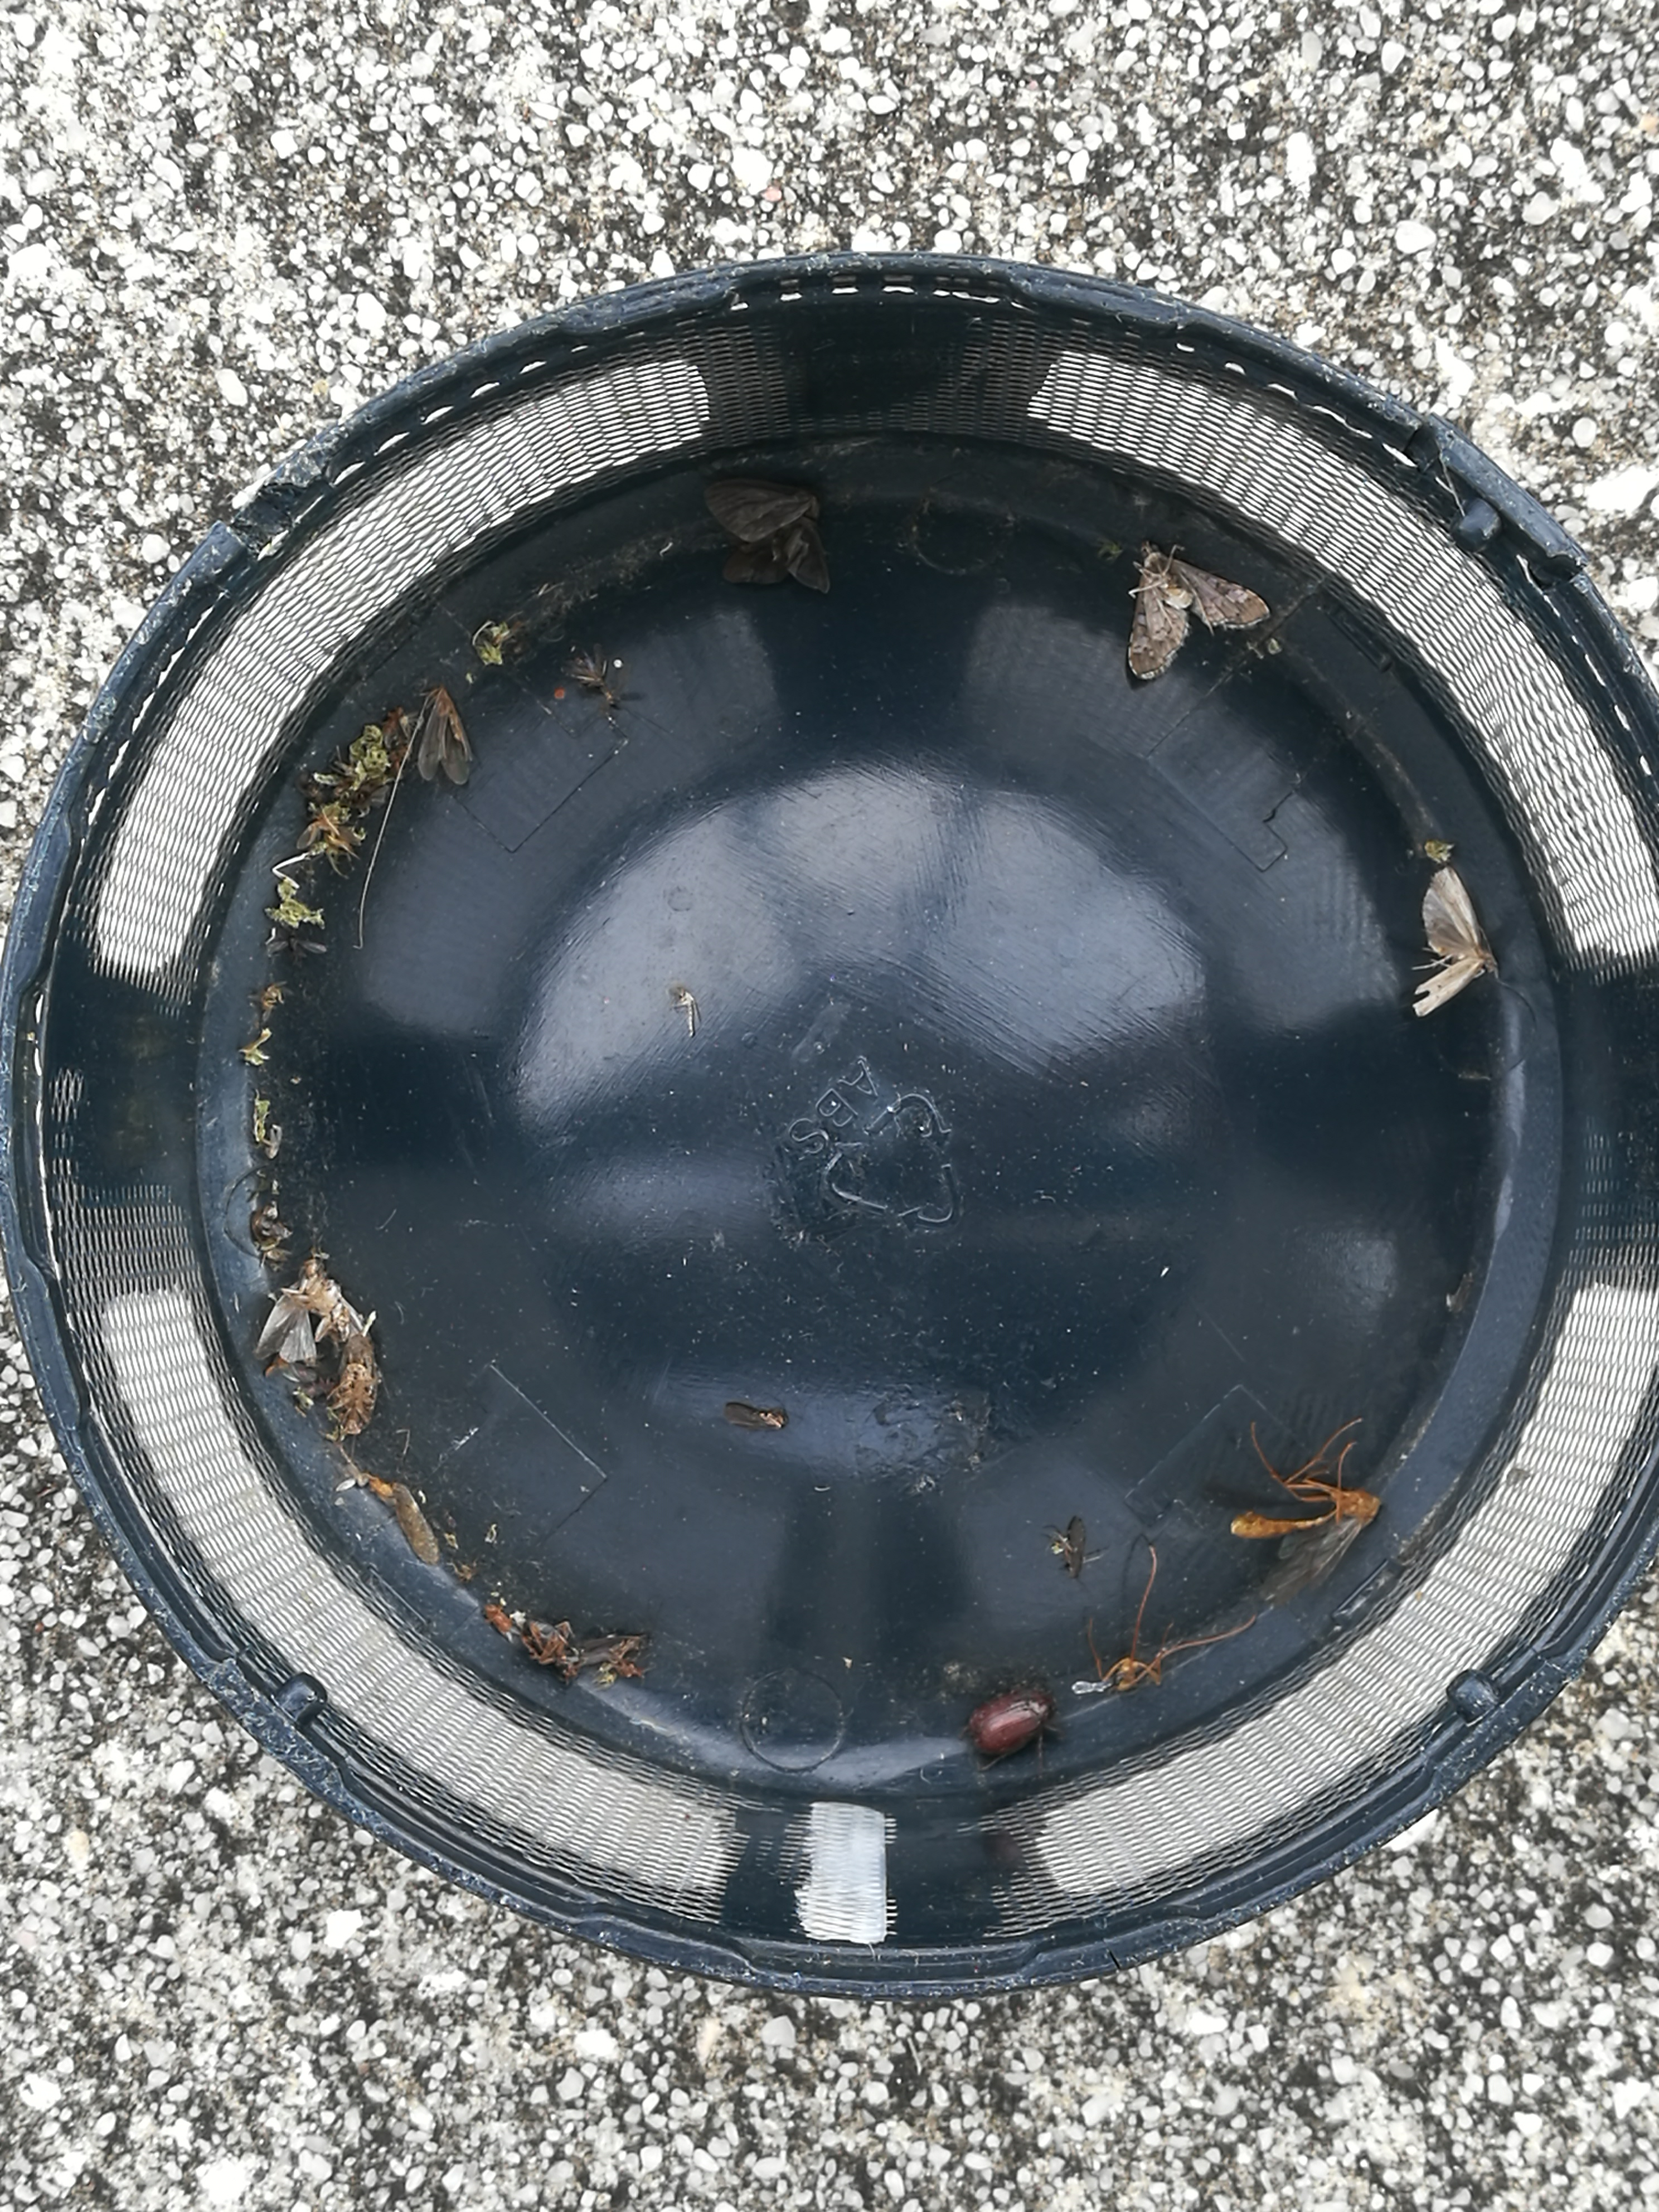beetle: (965, 1693, 1049, 1757), (336, 1338, 373, 1433)
mosquito: (725, 1402, 788, 1430), (1070, 1517, 1087, 1575)
moth: (1129, 542, 1267, 678), (706, 479, 829, 594), (1413, 866, 1495, 1012), (258, 1261, 369, 1360), (420, 693, 472, 784)
